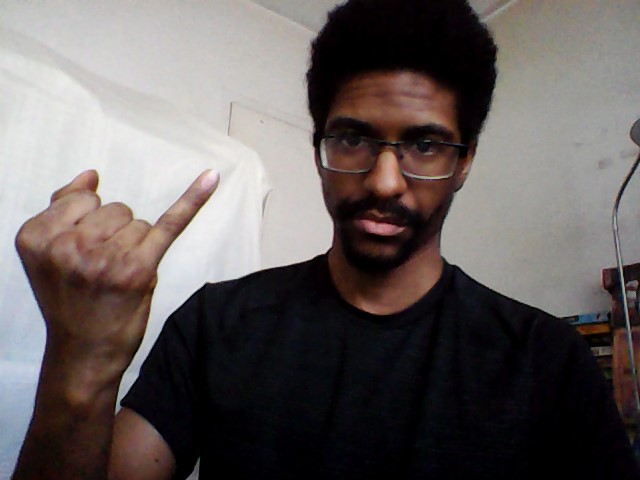j: (11, 162, 222, 376)
